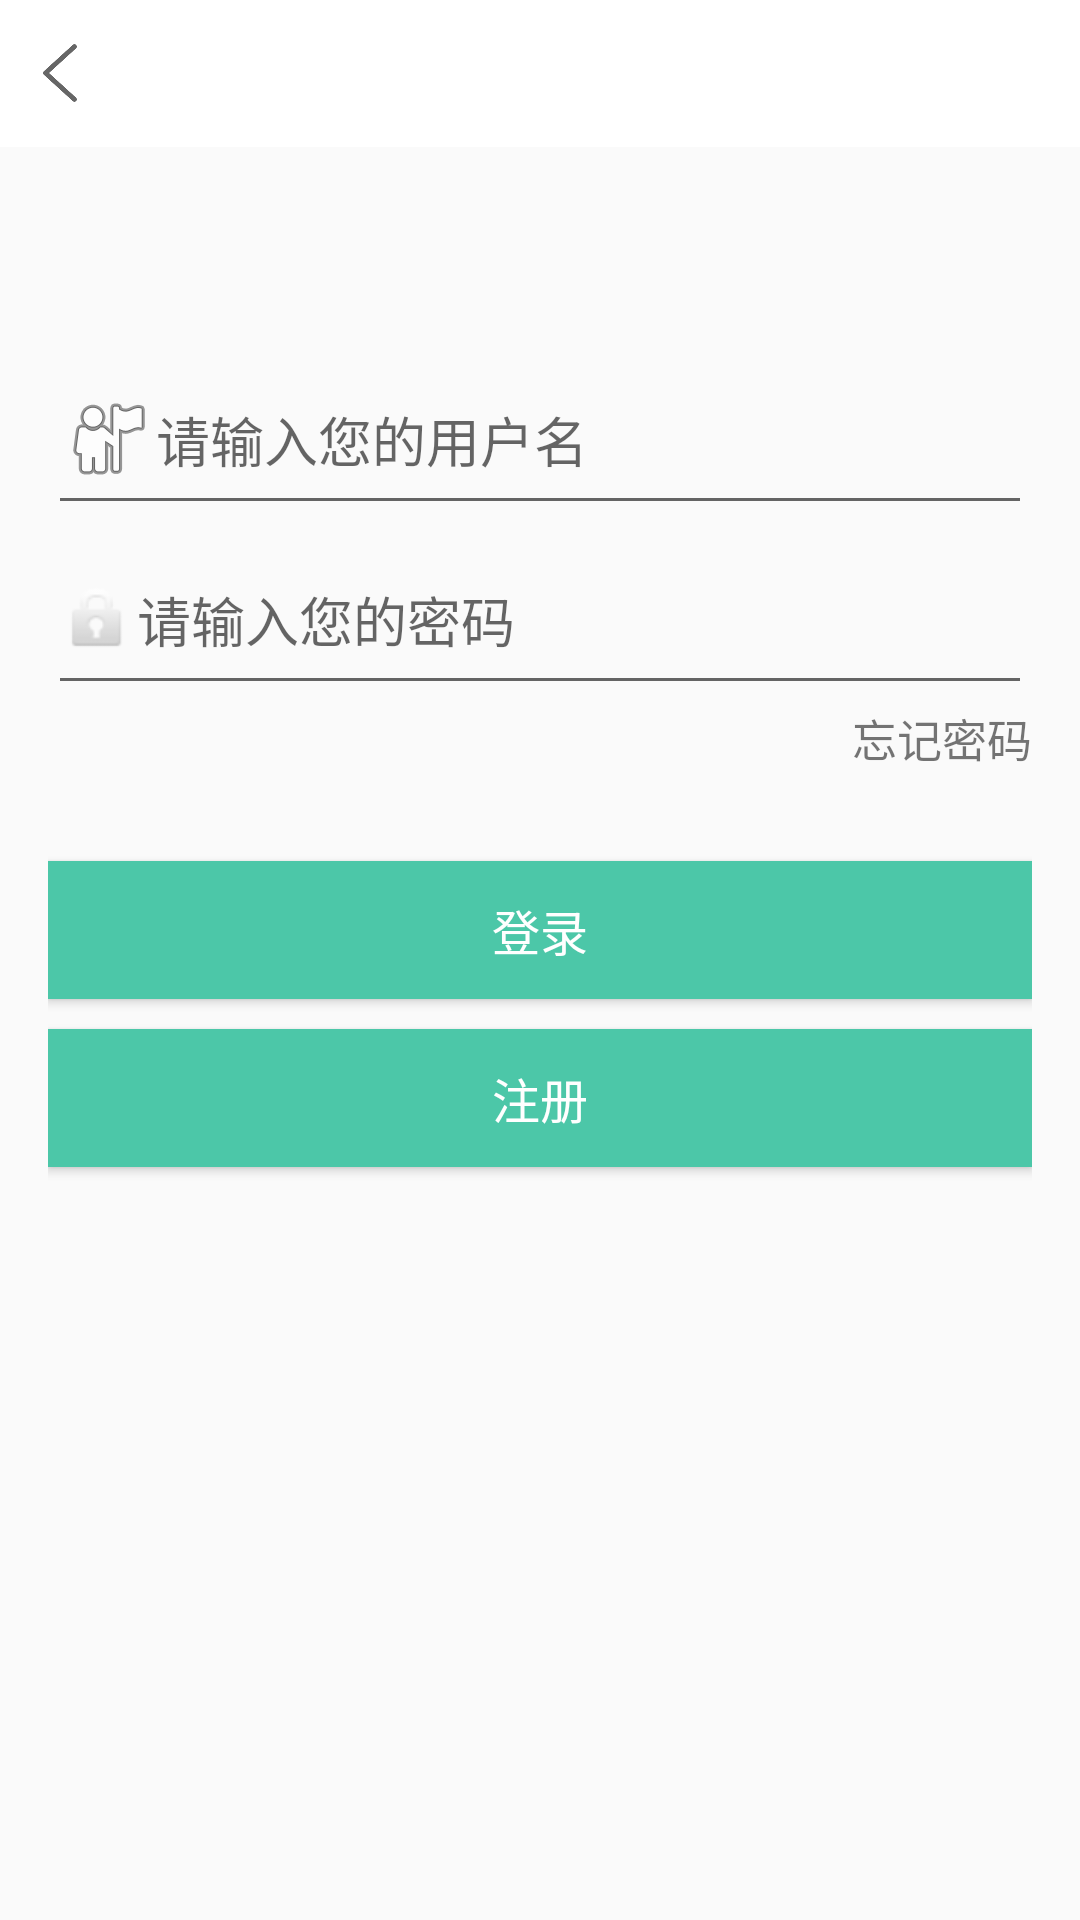

Locate icon controls on the screen. Image size 1080x1920, boxes as box(x1, y1, x2, y2).
back: box(43, 44, 77, 102)
